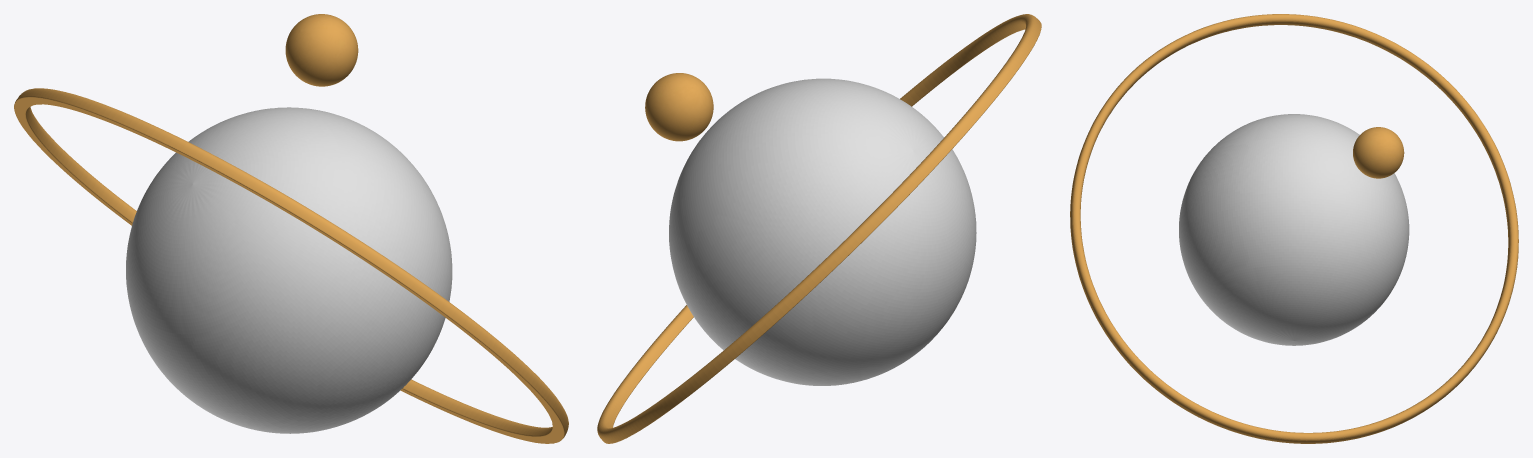
Rendered from Planet-simple.glb.
3 views of the same model, side by side, from view 1: azimuth 30°, elevation 25°; view 2: azimuth 150°, elevation 25°; view 3: azimuth 270°, elevation 25° (orthographic). The views are drawn at different scales.
Parts seen in each view (by area): view 1: Sphere, Ring, Sphere2; view 2: Sphere, Ring, Sphere2; view 3: Sphere, Ring, Sphere2.
Part boxes in pixels (x1,y1,x2,y2): Sphere: (126, 107, 452, 433); Ring: (14, 88, 568, 443); Sphere2: (285, 14, 358, 86); Sphere: (669, 78, 976, 385); Ring: (597, 14, 1041, 443); Sphere2: (645, 73, 713, 141); Sphere: (1179, 114, 1409, 345); Ring: (1070, 14, 1518, 443); Sphere2: (1353, 127, 1404, 178).
Size of the model in its own units: 2.84 by 2.84 by 3.85.
2 materials, 1 textured.
